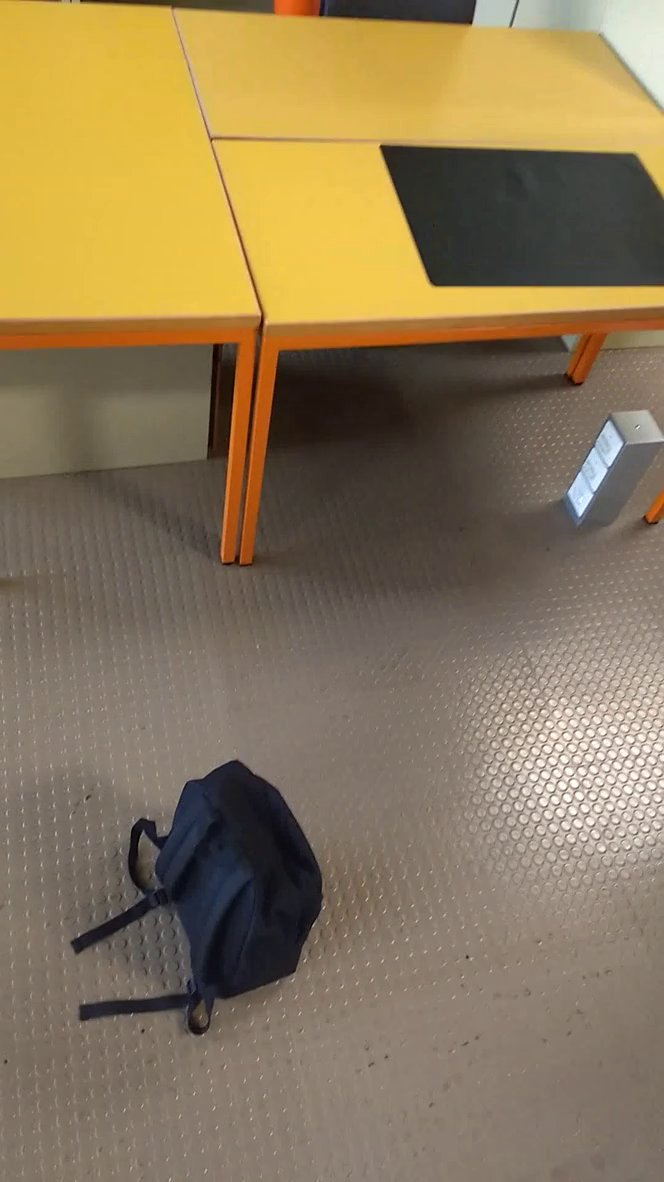bag: (67, 750, 347, 1046)
